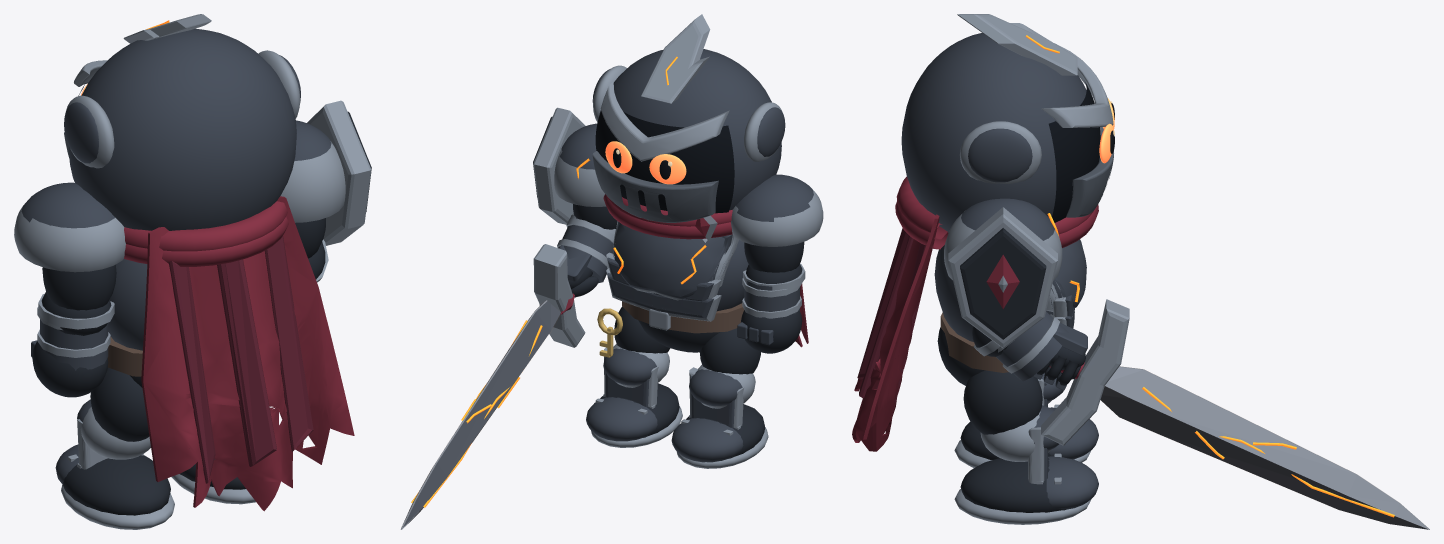
The model's file is ember-guardian.glb.
3 views of the same model, side by side, from view 1: azimuth 30°, elevation 25°; view 2: azimuth 150°, elevation 25°; view 3: azimuth 270°, elevation 25° (orthographic). The views are drawn at different scales.
Visible parts, largest first — view 1: armor-batch (×22), side-crest-rim; view 2: armor-batch (×33), forged-blade, side-crest-rim, ember-eye (×2); view 3: armor-batch (×24), forged-blade, side-crest-face, side-crest-rim, crimson-diamond.
Boxes of the visible parts, x1,y1,x2,y2 form: armor-batch (×22): (14,14,354,529); side-crest-rim: (307,100,371,245); armor-batch (×33): (411,14,823,507); forged-blade: (400,300,560,529); side-crest-rim: (533,107,585,224); ember-eye (×2): (605,141,686,184); armor-batch (×24): (852,14,1394,524); forged-blade: (1100,366,1429,529); side-crest-face: (960,228,1046,339); side-crest-rim: (948,207,1057,348); crimson-diamond: (986,254,1019,309).
Size of the model in its own units: 1.21 by 1.74 by 1.9.
